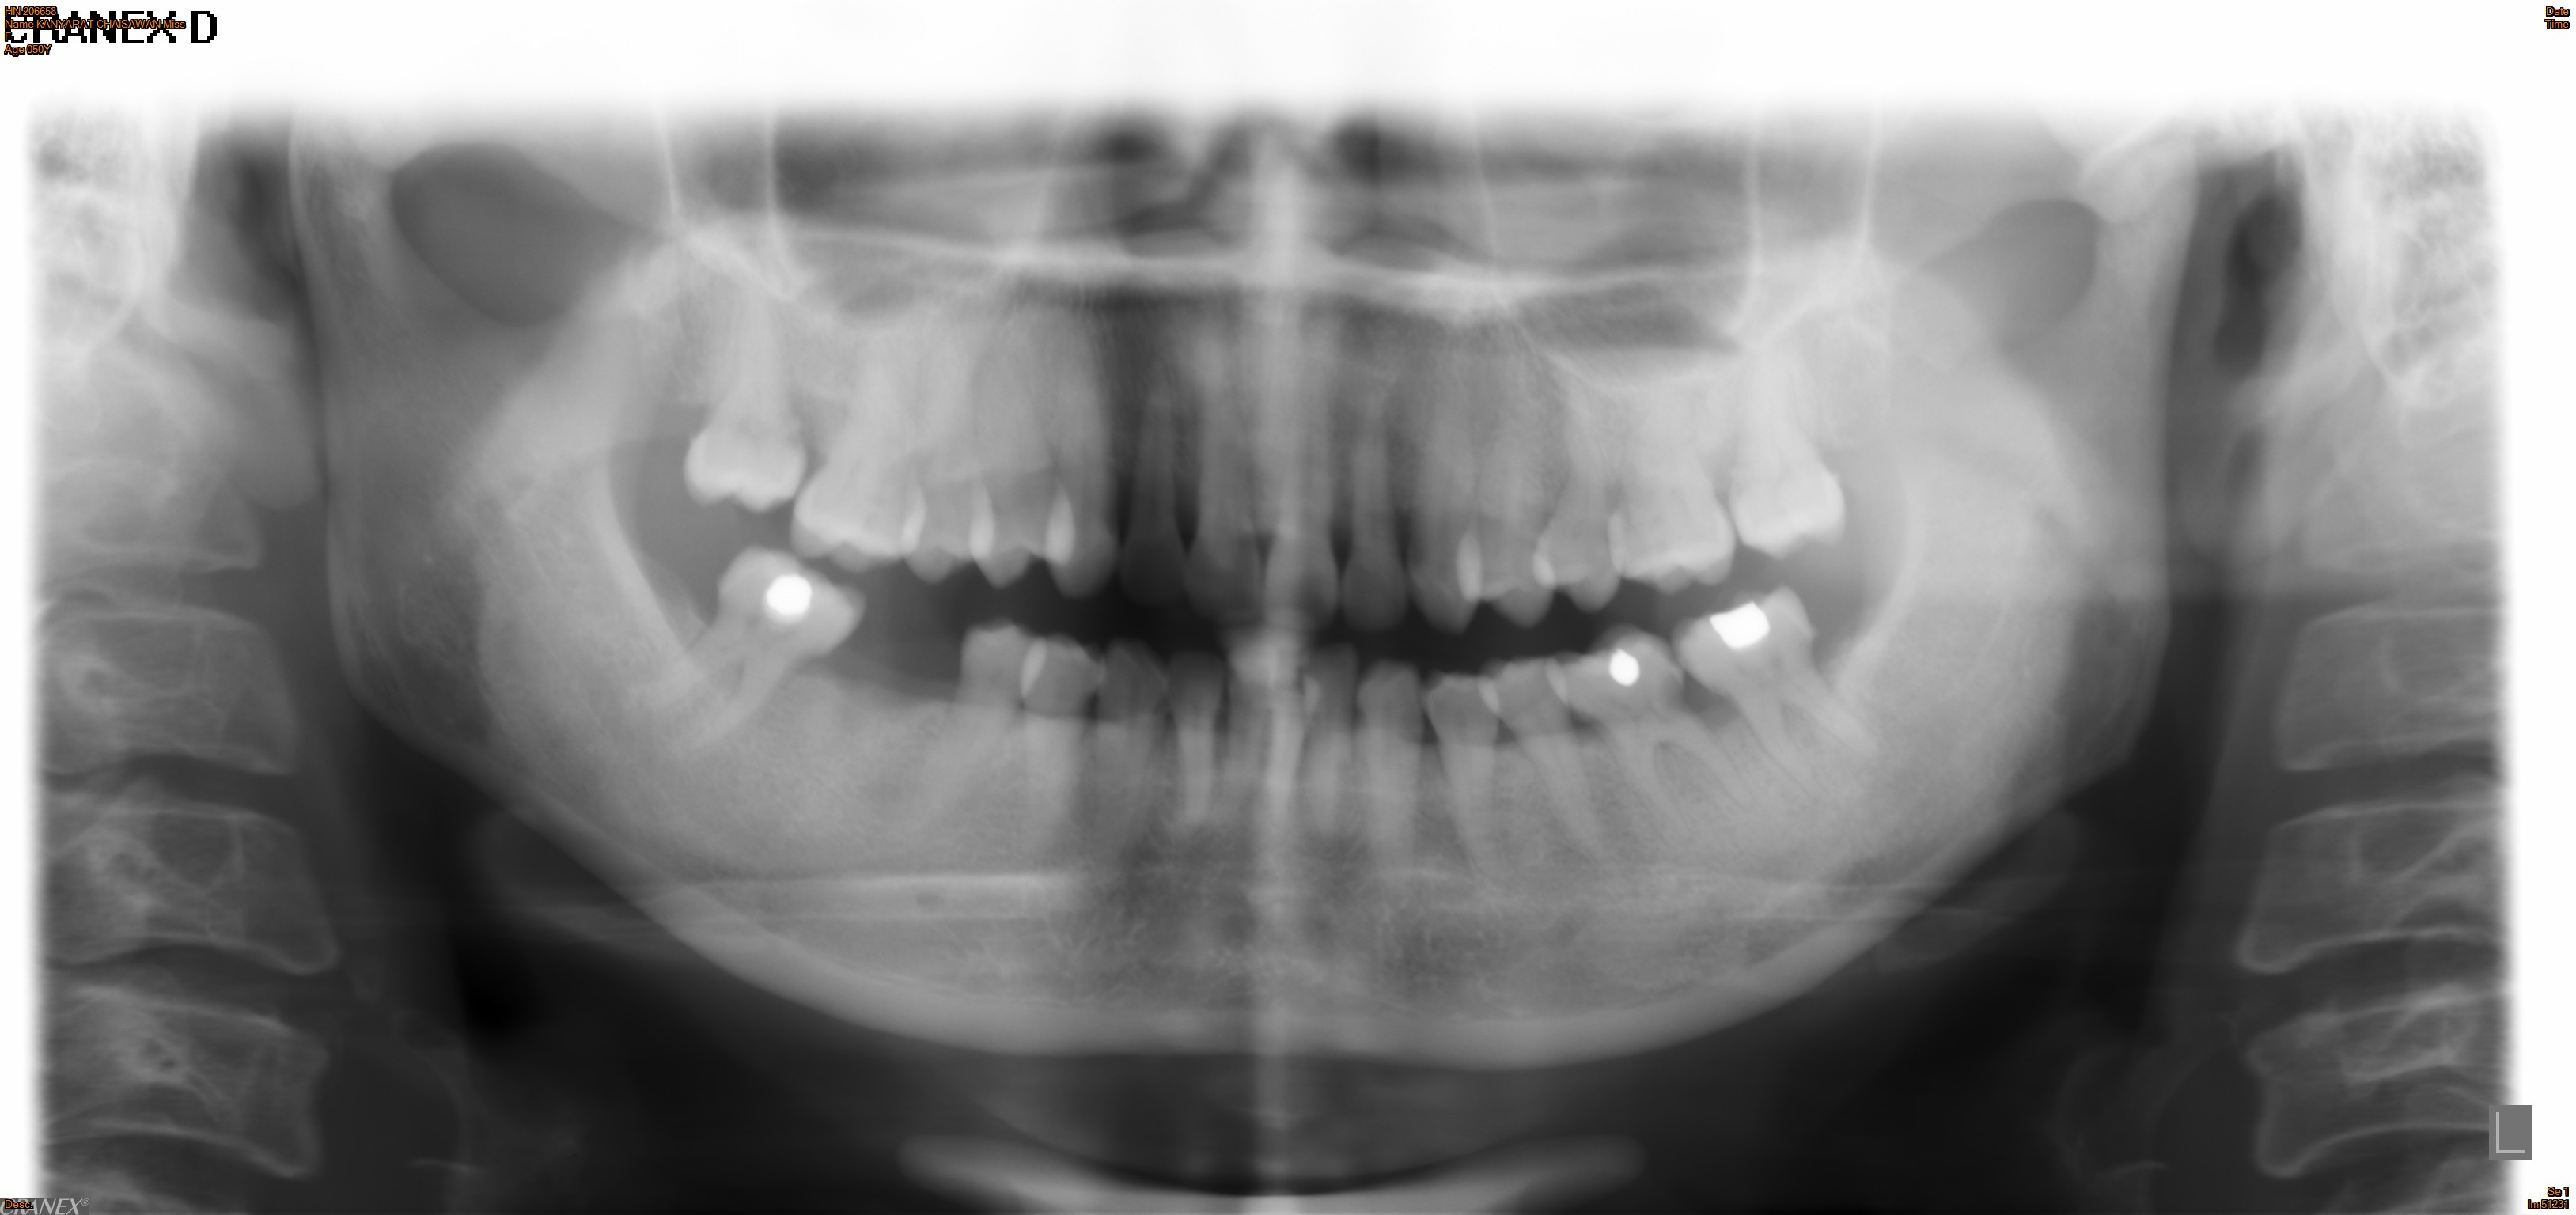periodontitis: (621, 539, 884, 759), (1667, 581, 1897, 803), (1551, 622, 1759, 862)
